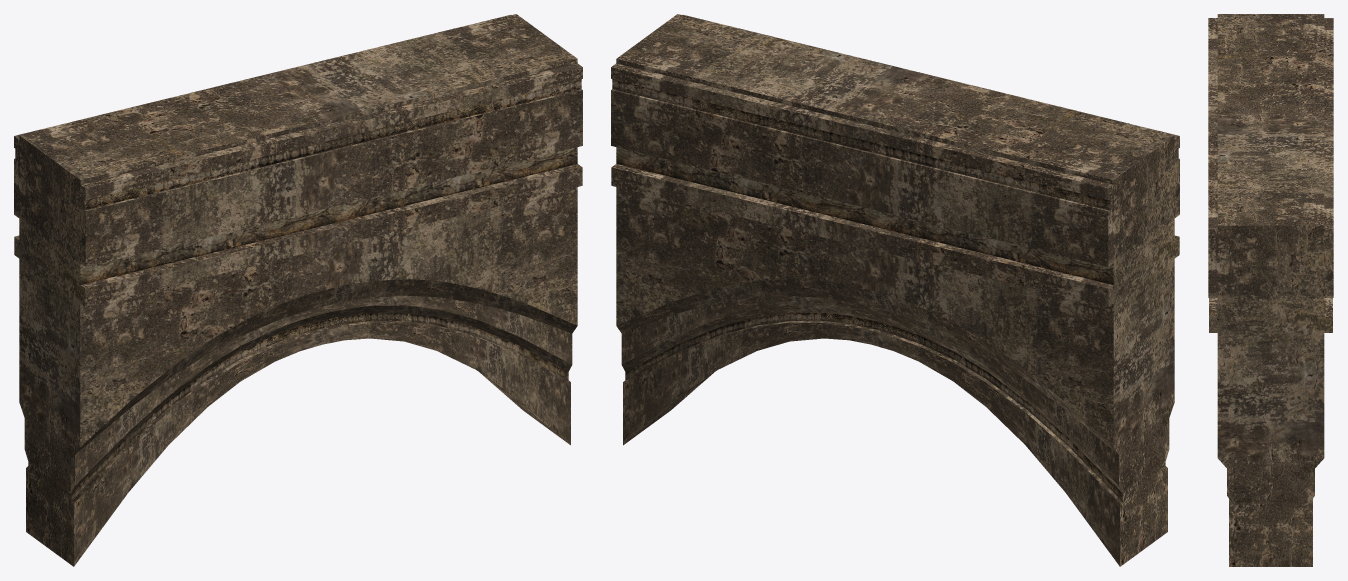
The model's file is materials_5_arch_11.fbx.
3 views of the same model, side by side, from view 1: azimuth 30°, elevation 25°; view 2: azimuth 150°, elevation 25°; view 3: azimuth 270°, elevation 25° (orthographic). The views are drawn at different scales.
Parts seen in each view (by area): view 1: materials_5_arch_11; view 2: materials_5_arch_11; view 3: materials_5_arch_11.
Part boxes in pixels (<box>): materials_5_arch_11: <box>14,14,582,566</box>; materials_5_arch_11: <box>611,14,1179,566</box>; materials_5_arch_11: <box>1208,14,1333,566</box>.
Bounding box in the file's own units: 151 × 114 × 37.82.
